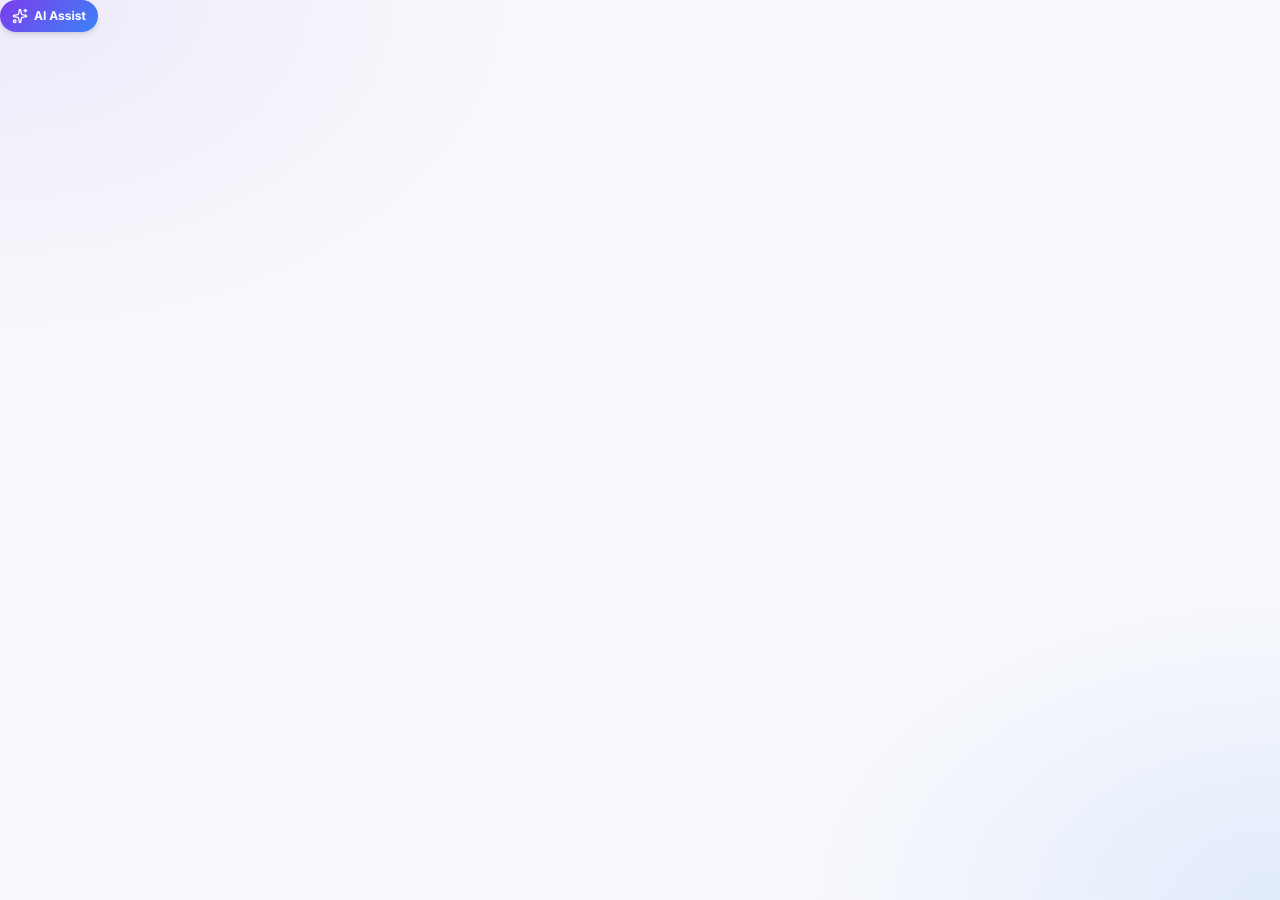
Test case: AiAssistButton mentions › locks the notes box while a generate request is in flight
This screenshot has width=1280, height=900.
Later steps or results of the test are not shown.
Click the button with test id "button-ai-assist". click: click(49, 16)
box: [0, 0, 98, 32]
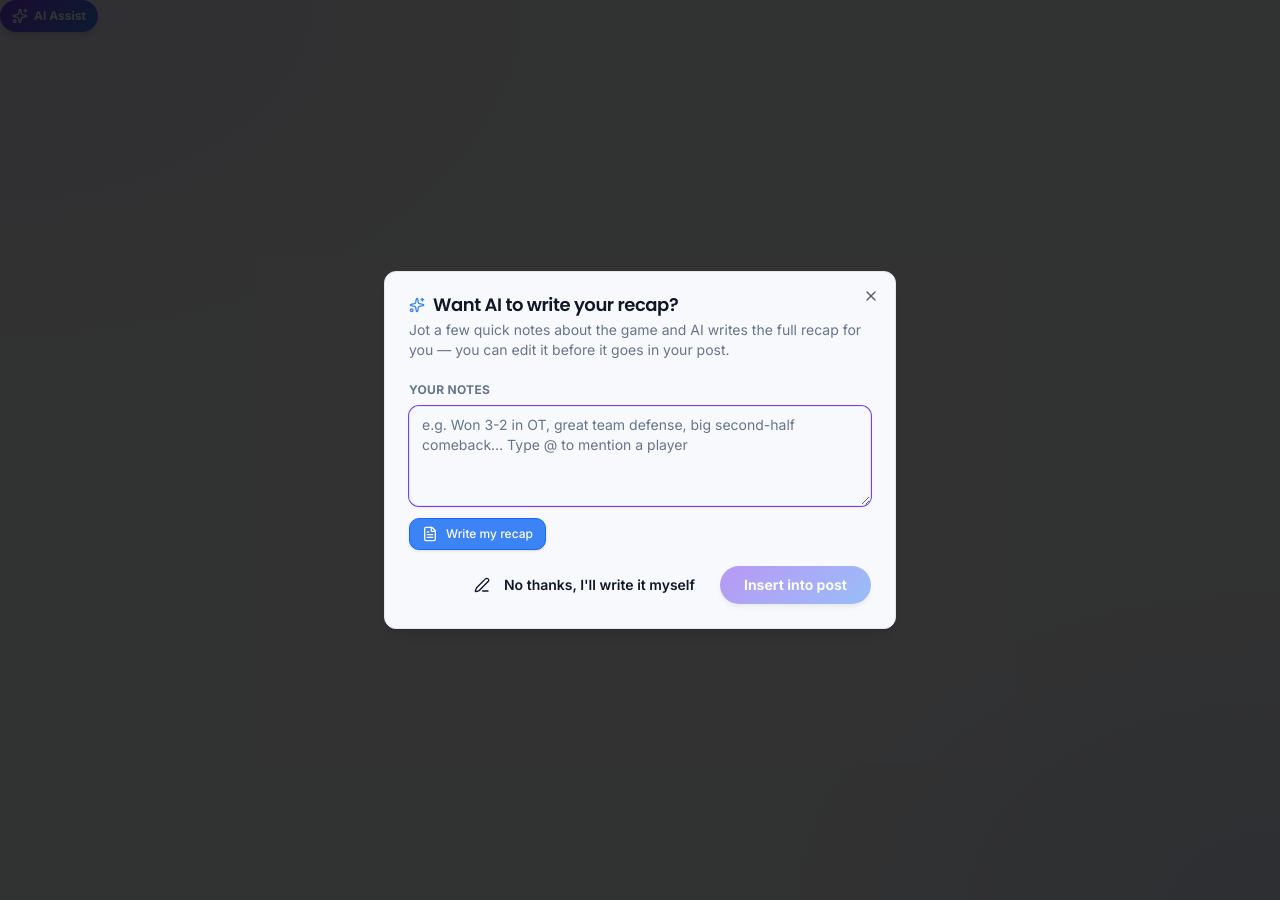
Type "won 3-2" into the text box with test id "textarea-ai-notes". click: (640, 456)
box: [409, 406, 871, 506]
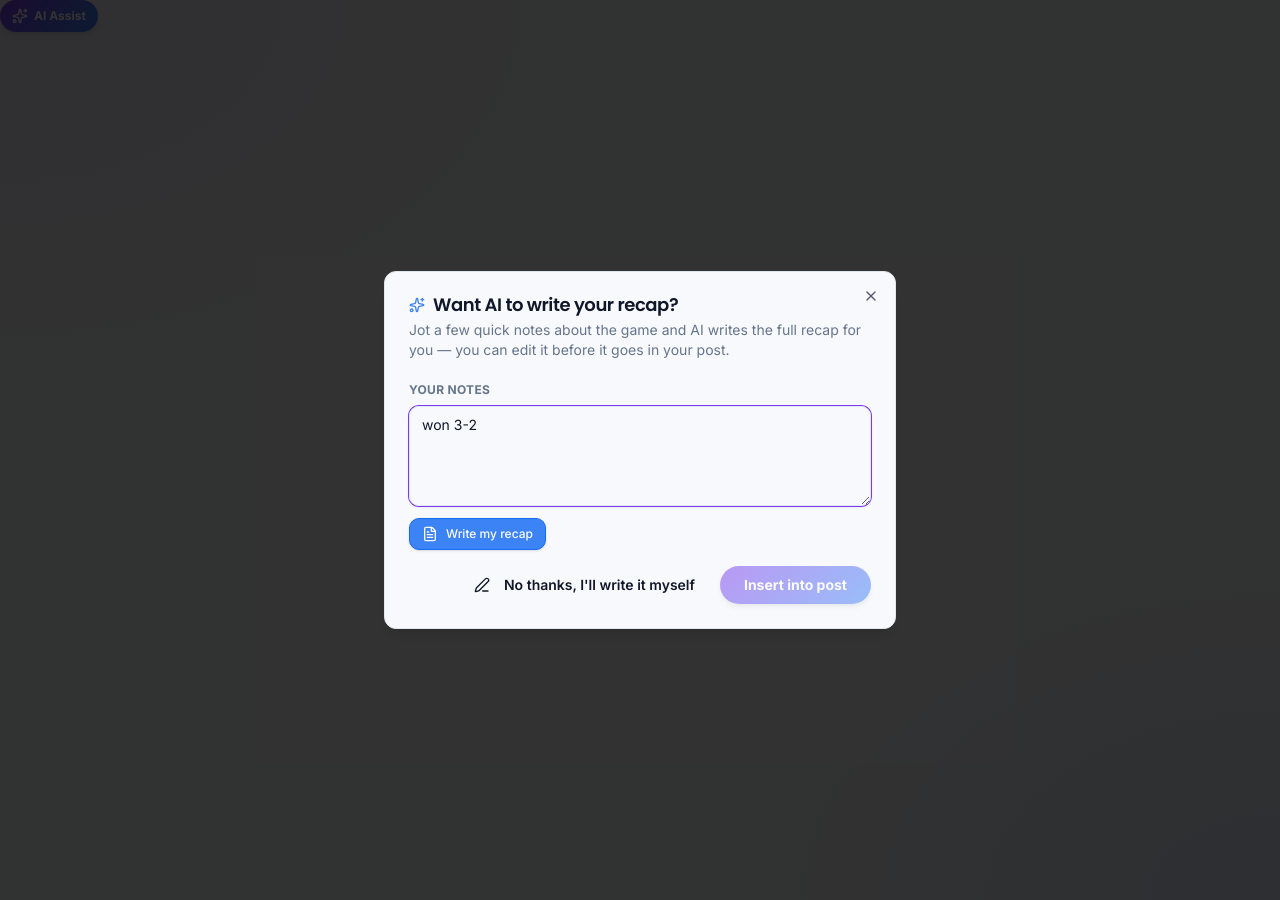
Click the button with test id "button-ai-generate". click: click(477, 534)
box: [409, 518, 546, 550]
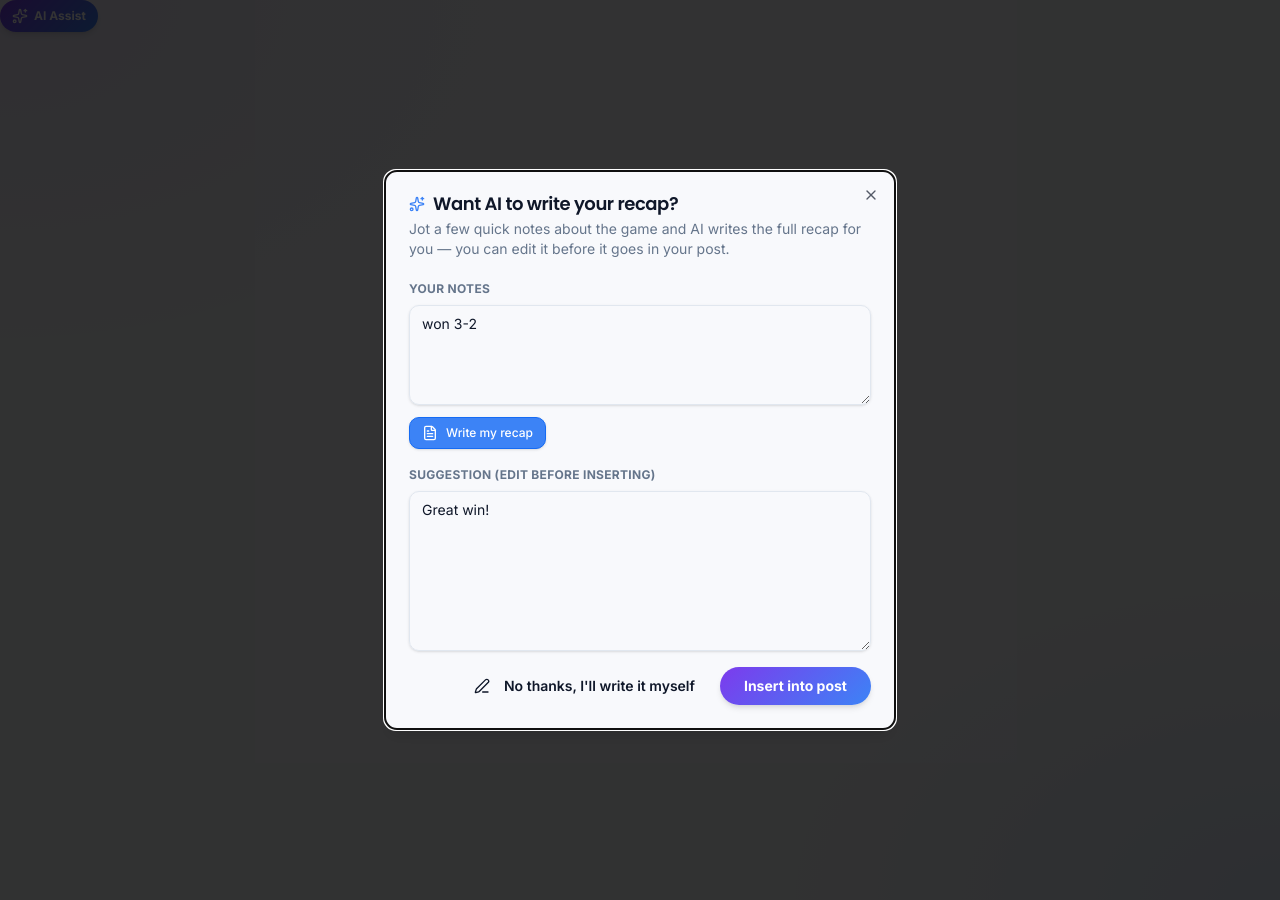
Now the text box with test id "textarea-ai-notes" is enabled, box [409, 305, 871, 405]
